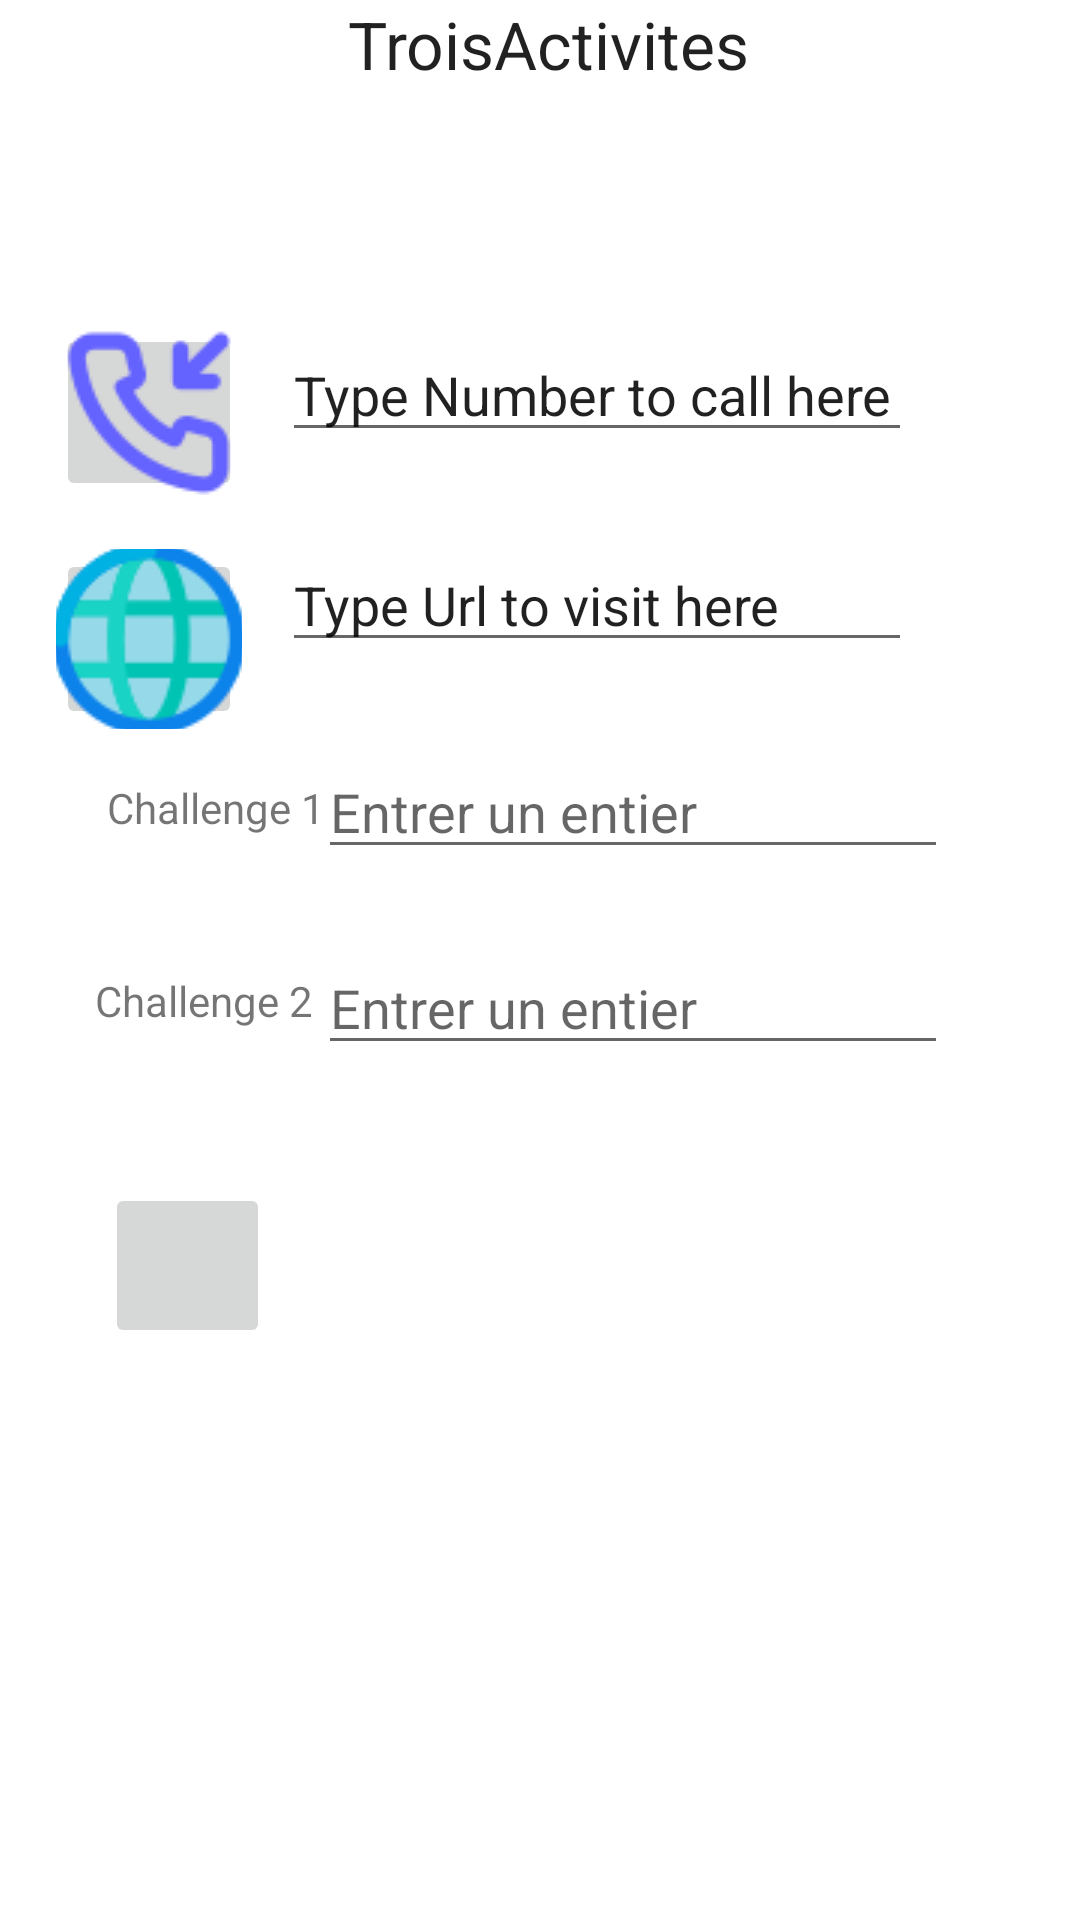

Point at icon controls on the screen. Image size 1080 x 1920, points as [x,y].
intern: [149,639]
